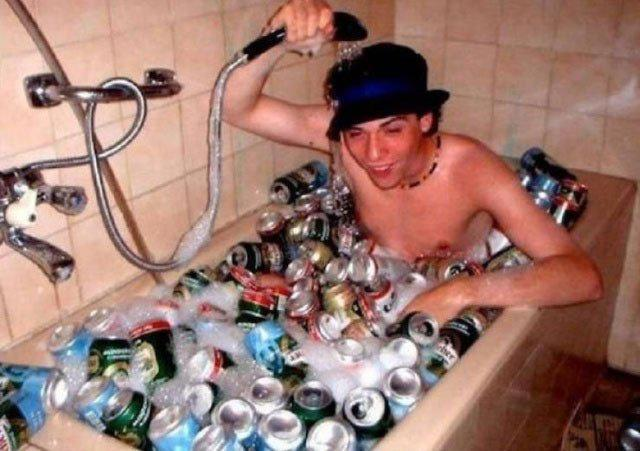Drunk: (346, 120, 415, 187)
